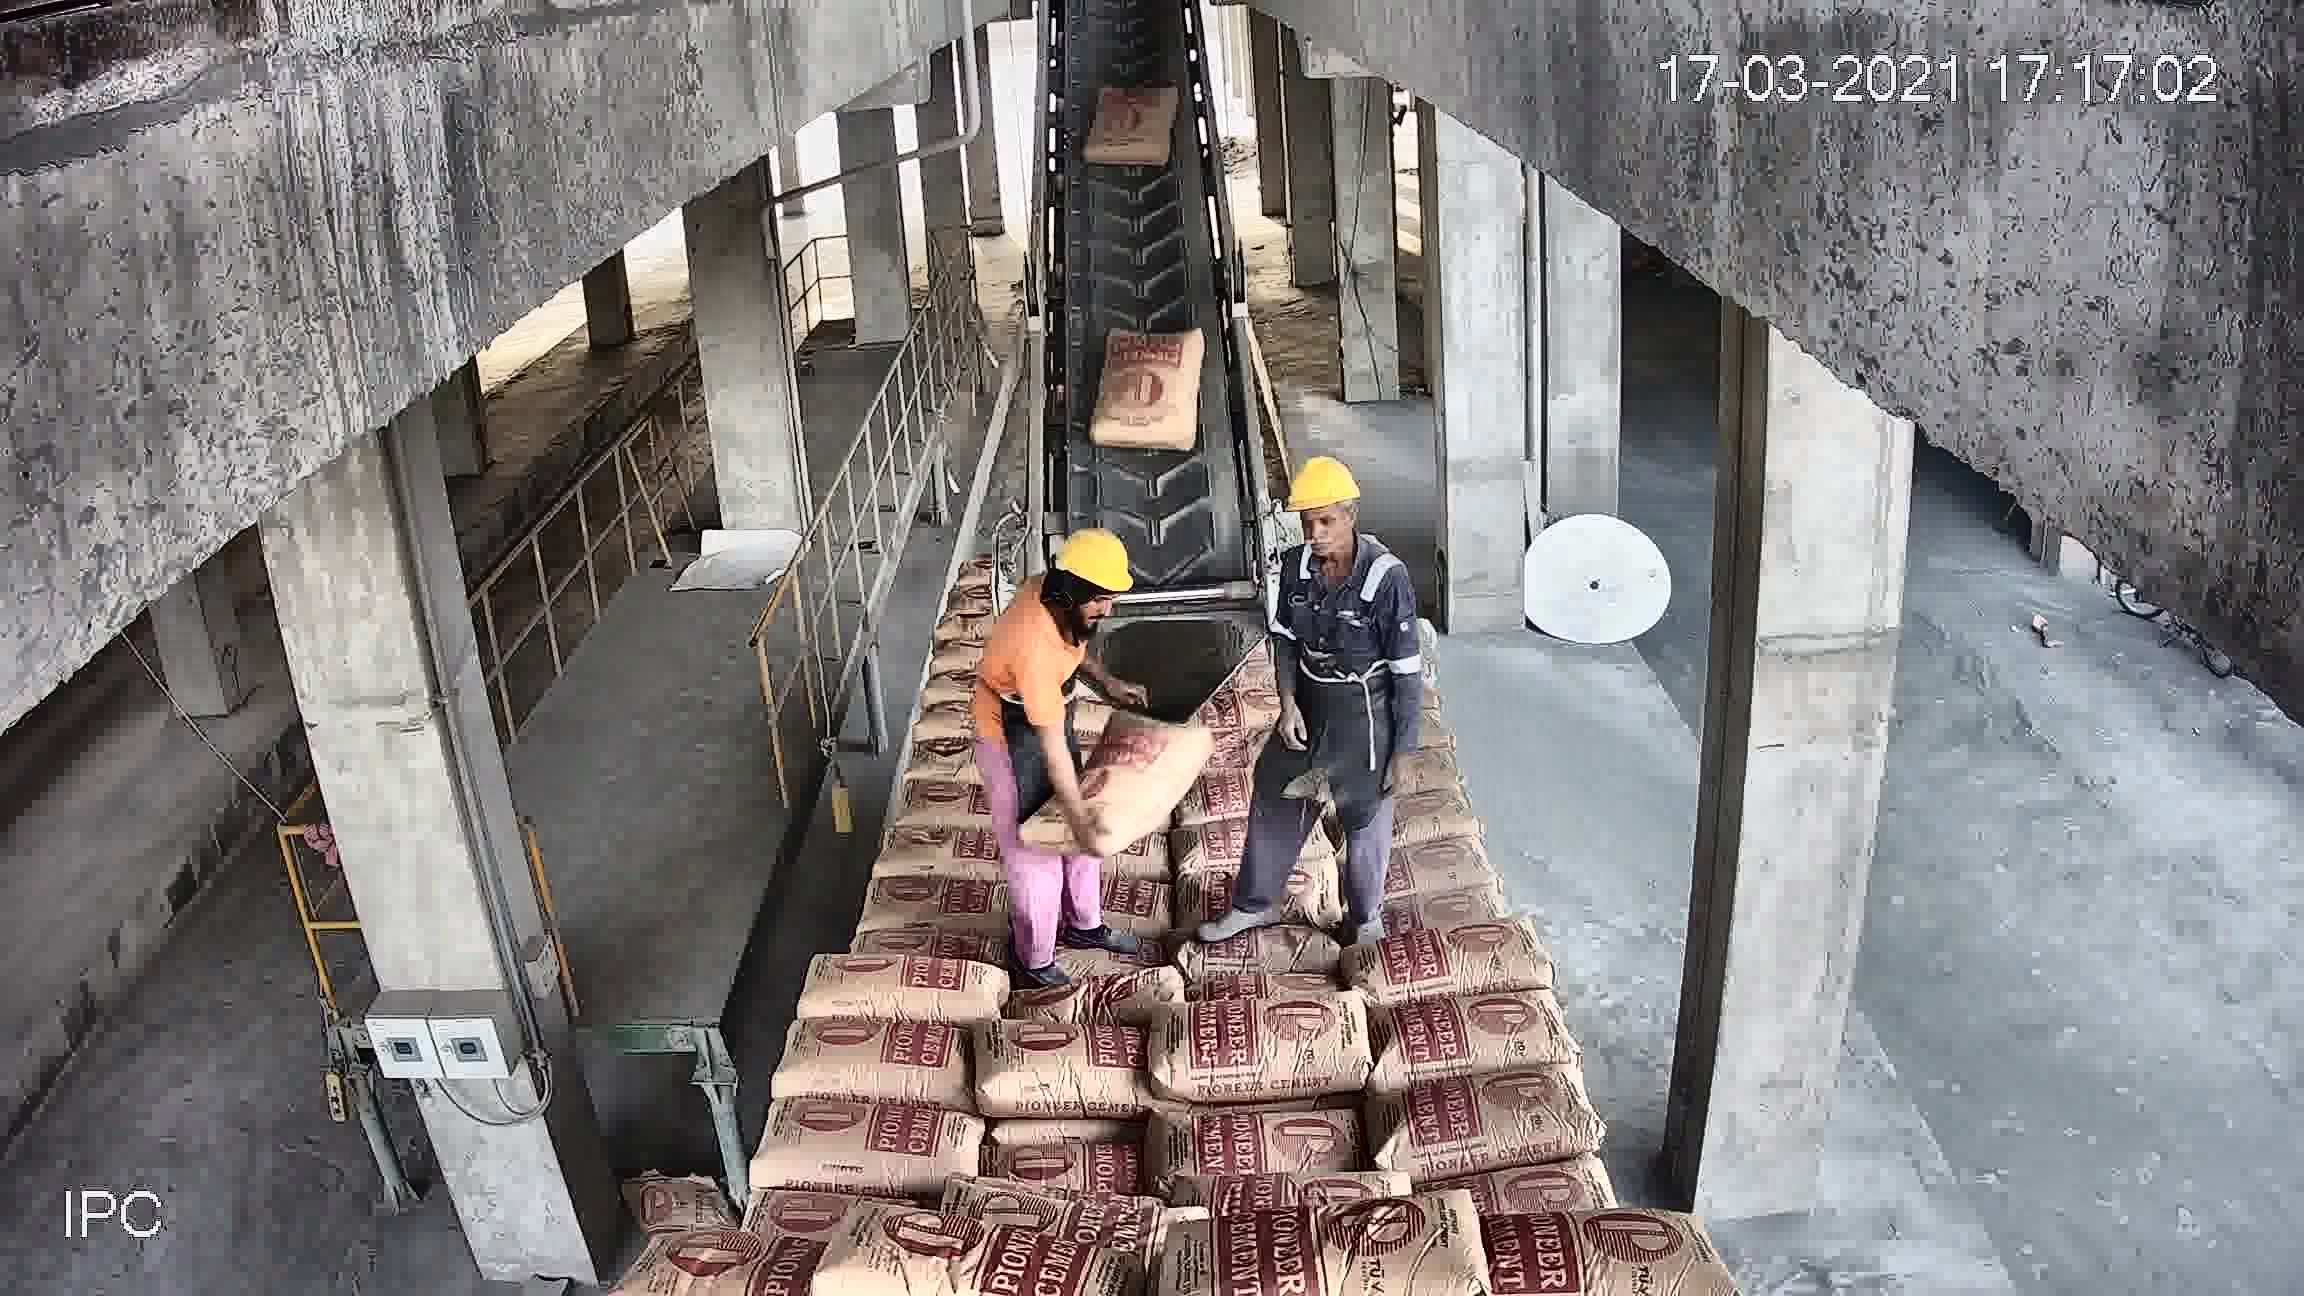bag_h: (1160, 1195, 1492, 1287), (818, 1201, 1147, 1293), (1014, 711, 1215, 845), (1150, 994, 1377, 1109), (1367, 1065, 1614, 1168), (745, 1093, 983, 1196), (1367, 980, 1573, 1097), (1486, 1199, 1733, 1287), (1348, 915, 1546, 1014), (1141, 1095, 1366, 1182), (1419, 1131, 1616, 1226), (764, 1013, 983, 1097), (967, 1021, 1143, 1124), (798, 945, 1014, 1022), (623, 1225, 821, 1294), (1173, 916, 1343, 983), (864, 867, 1014, 937), (972, 1141, 1144, 1195), (1378, 836, 1503, 908), (878, 817, 1014, 880), (883, 777, 983, 837)
bag_v: (1093, 331, 1201, 449), (1087, 85, 1176, 166)
belt: (1040, 35, 1279, 666)
